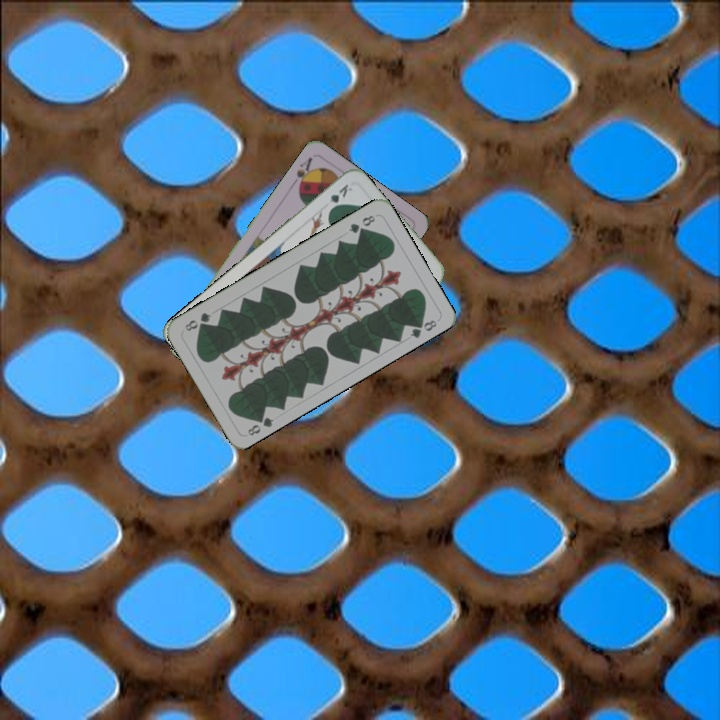G8: (243, 410, 276, 439), (344, 211, 378, 236)
GK: (324, 180, 355, 214)
SA: (288, 153, 317, 192)
